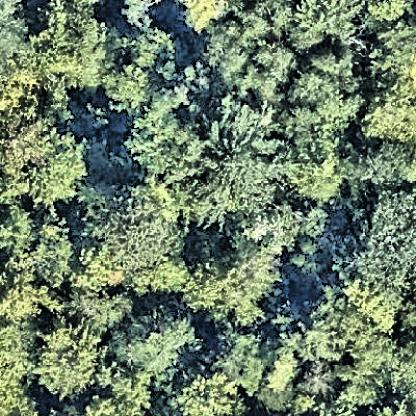tree-top: (201, 3, 354, 114), (169, 101, 284, 220), (293, 288, 403, 383), (346, 185, 416, 312), (1, 119, 86, 209), (102, 191, 186, 275), (196, 229, 279, 311), (30, 8, 107, 90), (119, 300, 200, 375), (37, 318, 112, 398), (170, 364, 251, 416), (352, 82, 416, 145), (30, 211, 79, 290), (290, 138, 348, 202), (369, 16, 416, 88), (1, 327, 37, 416), (105, 61, 162, 116), (131, 114, 185, 172), (212, 331, 259, 393), (1, 271, 53, 325), (122, 24, 177, 75), (297, 362, 340, 401), (114, 373, 149, 416)
